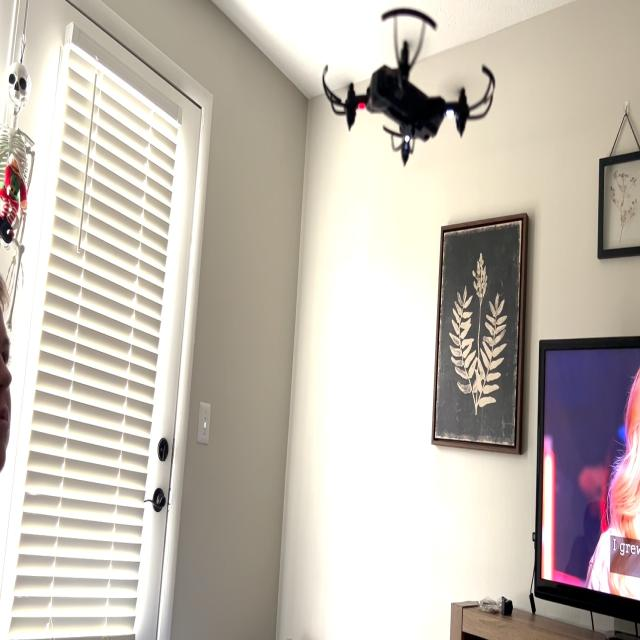drone: (306, 2, 507, 179)
